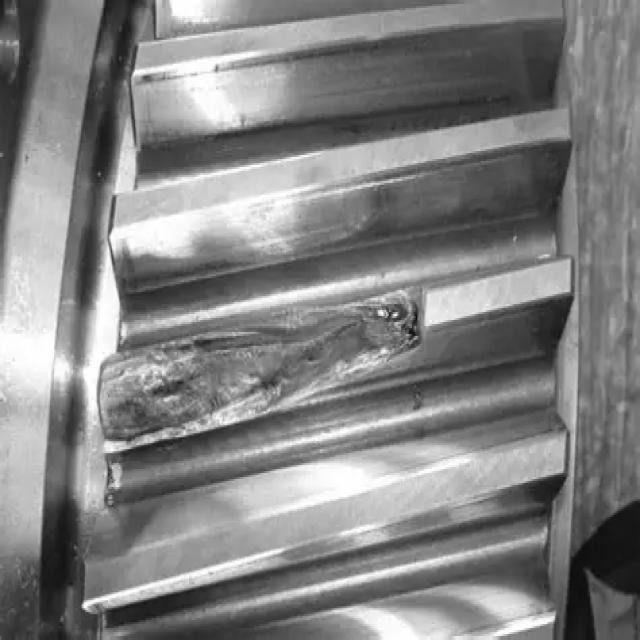Fault-Exist: (97, 283, 553, 458)
